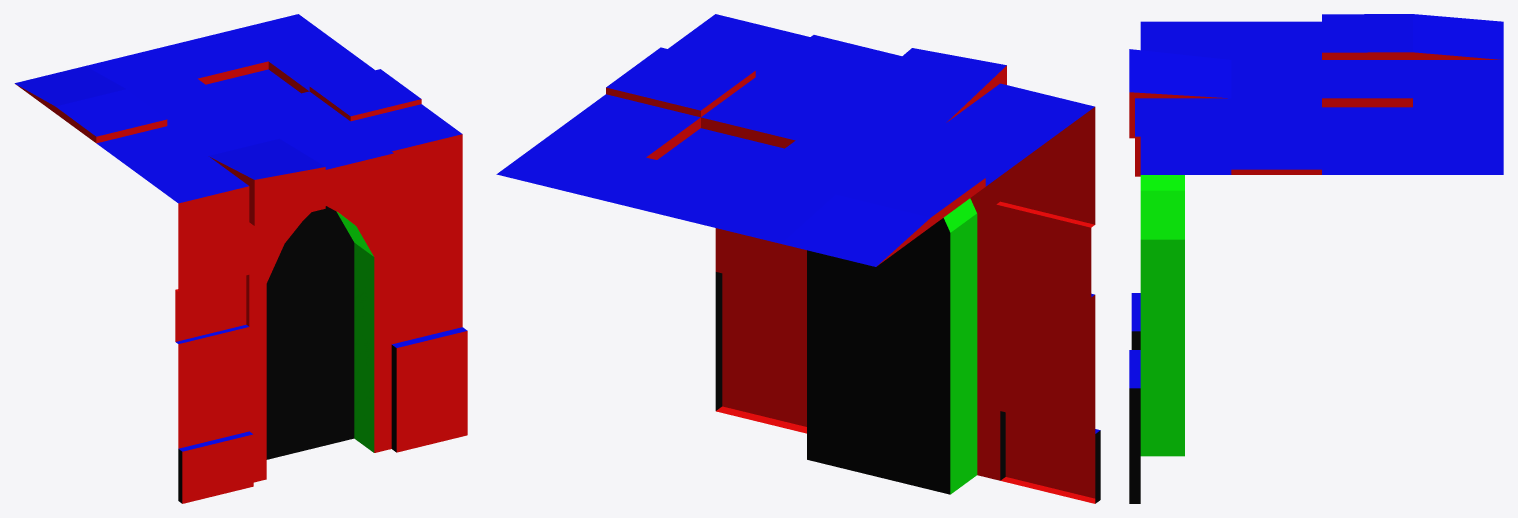
Rendered from Block_Side_Rough_v1.fbx.
3 renders of one model, left to right at view 1: azimuth 30°, elevation 25°; view 2: azimuth 150°, elevation 25°; view 3: azimuth 270°, elevation 25°, orthographic. The views are drawn at different scales.
Visible parts, largest first — view 1: Cube.009; view 2: Cube.009; view 3: Cube.009.
Boxes of the visible parts, x1=… form: Cube.009: x1=14, y1=14, x2=467, y2=503; Cube.009: x1=496, y1=14, x2=1100, y2=503; Cube.009: x1=1129, y1=14, x2=1503, y2=503.
Bounding box in the file's own units: 100 × 103 × 103.
